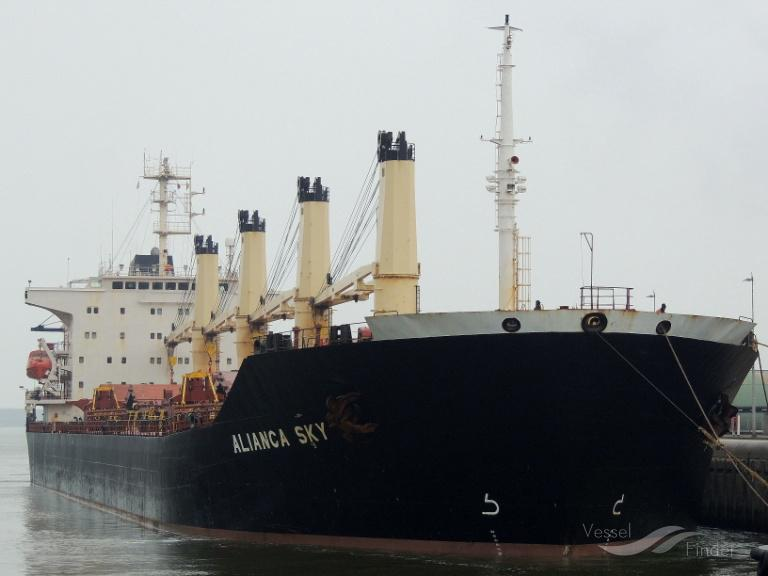OCR: (212, 418, 338, 458)
